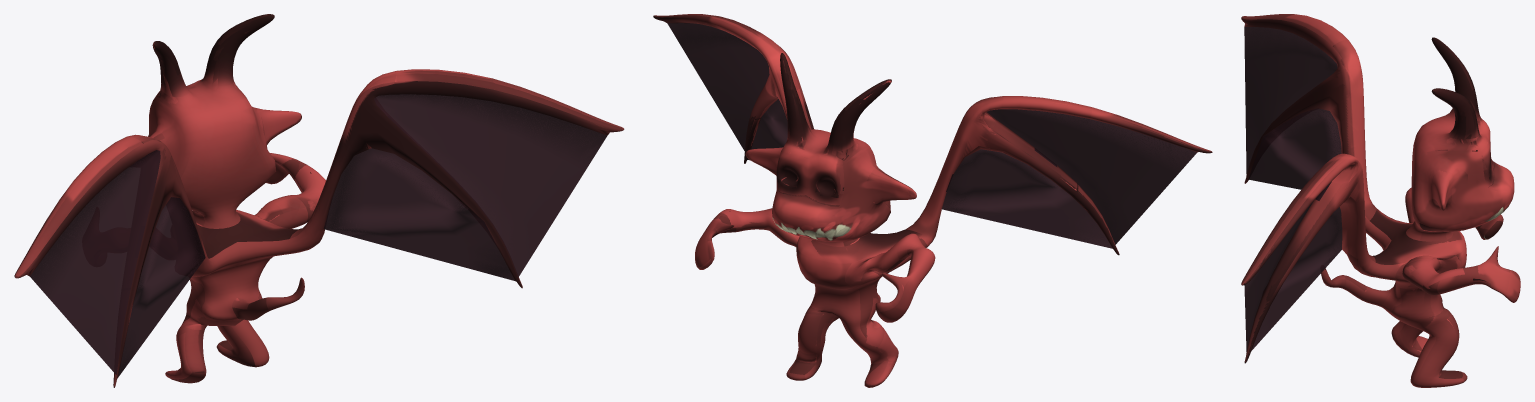
The model's file is imp 1.fbx.
3 renders of one model, left to right at view 1: azimuth 30°, elevation 25°; view 2: azimuth 150°, elevation 25°; view 3: azimuth 270°, elevation 25°, orthographic. The views are drawn at different scales.
Visible parts, largest first — view 1: ImpPose; view 2: ImpPose; view 3: ImpPose.
Part boxes in pixels (x1,y1,x2,y2): ImpPose: [14, 14, 624, 387]; ImpPose: [653, 14, 1212, 387]; ImpPose: [1241, 14, 1520, 387].
Size of the model in its own units: 1609 by 864 by 708.
